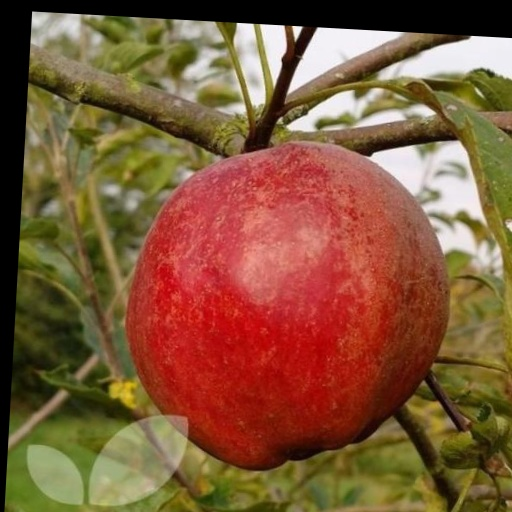fruit: (126, 142, 448, 469)
